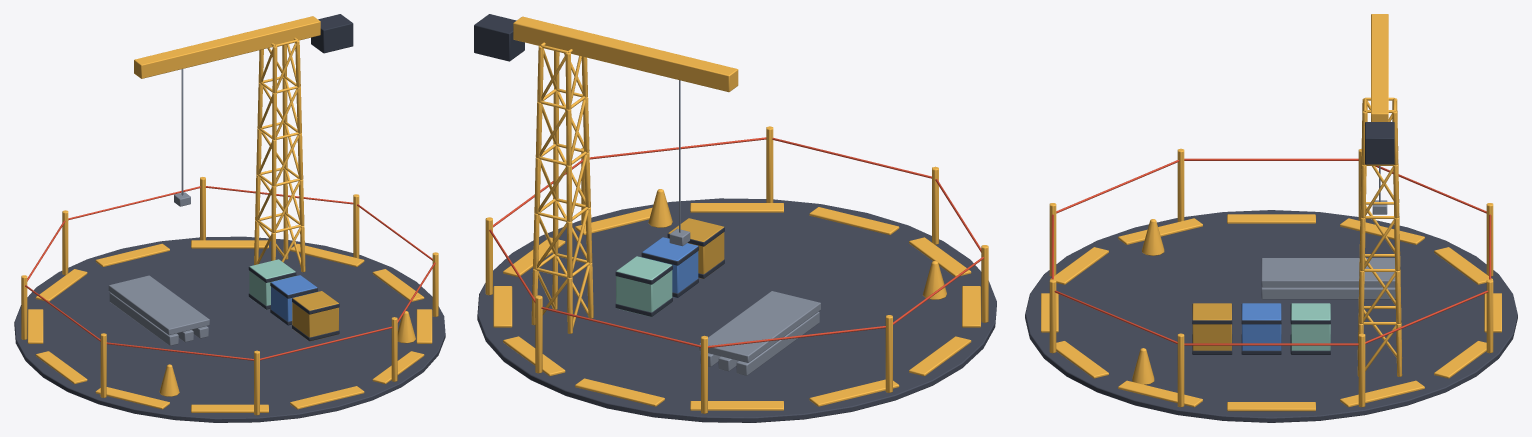
File: bauplatz.fbx
3 views of the same model, side by side, from view 1: azimuth 30°, elevation 25°; view 2: azimuth 150°, elevation 25°; view 3: azimuth 270°, elevation 25° (orthographic). The views are drawn at different scales.
Parts seen in each view (by area): view 1: bauplatz_Koerper; view 2: bauplatz_Koerper; view 3: bauplatz_Koerper.
Part boxes in pixels (x1,y1,x2,y2): bauplatz_Koerper: [14, 14, 445, 422]; bauplatz_Koerper: [474, 14, 996, 422]; bauplatz_Koerper: [1025, 14, 1517, 422].
Size of the model in its own units: 5 by 3.14 by 5.
